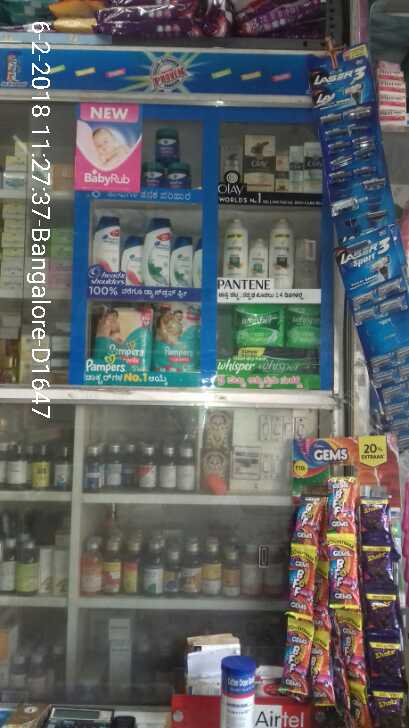beauty: (144, 216, 174, 289), (267, 216, 294, 288), (223, 213, 247, 288), (244, 129, 271, 186), (93, 215, 117, 275), (170, 233, 196, 288), (246, 233, 270, 289), (121, 238, 146, 286)
pharmacy: (90, 296, 155, 374), (150, 300, 205, 377), (235, 302, 282, 355), (283, 301, 317, 348), (152, 124, 181, 167), (139, 156, 162, 186), (163, 162, 190, 186)
